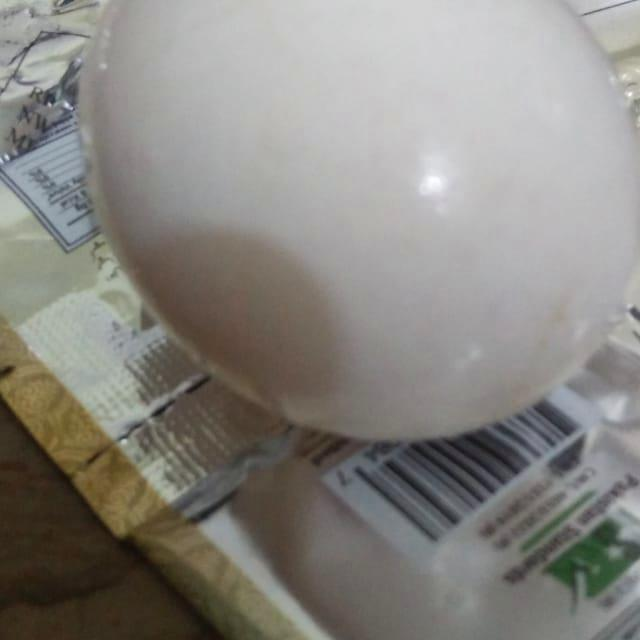egg: (73, 0, 640, 446)
